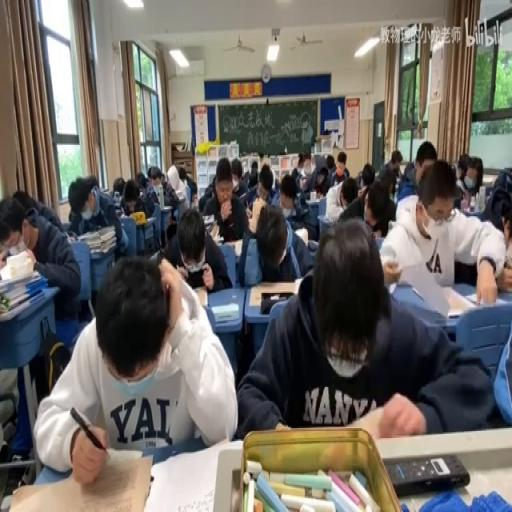calculator: (7, 451, 152, 512), (142, 442, 230, 509), (395, 258, 472, 317), (119, 212, 157, 254), (248, 282, 296, 308), (464, 287, 510, 309), (0, 268, 39, 292), (210, 301, 238, 323), (90, 244, 115, 258), (191, 286, 207, 307), (226, 236, 242, 256), (293, 225, 308, 243), (293, 274, 306, 293), (208, 222, 220, 242), (202, 213, 214, 225), (306, 196, 322, 205), (308, 239, 318, 252), (386, 282, 396, 294), (190, 194, 198, 208), (143, 216, 155, 225), (116, 211, 126, 219), (159, 204, 171, 210), (214, 236, 222, 243)
paper: (238, 218, 496, 440), (35, 253, 233, 481), (1, 194, 81, 324), (239, 202, 310, 287), (164, 205, 230, 290), (68, 172, 128, 256), (472, 174, 511, 288), (338, 173, 389, 229), (145, 164, 180, 214), (378, 149, 404, 199), (412, 140, 438, 186), (178, 164, 197, 204), (230, 156, 248, 195), (12, 188, 38, 214), (197, 173, 214, 212), (256, 165, 274, 201), (122, 183, 140, 215), (322, 151, 338, 186), (454, 154, 468, 182), (361, 162, 374, 192), (246, 161, 258, 189), (470, 156, 482, 182), (402, 160, 415, 184), (112, 176, 125, 199), (290, 168, 302, 192), (501, 214, 510, 244), (112, 196, 123, 216), (136, 170, 146, 188), (260, 154, 270, 172), (296, 152, 304, 171), (337, 151, 346, 165), (160, 174, 166, 188)
person: (385, 452, 470, 494)
